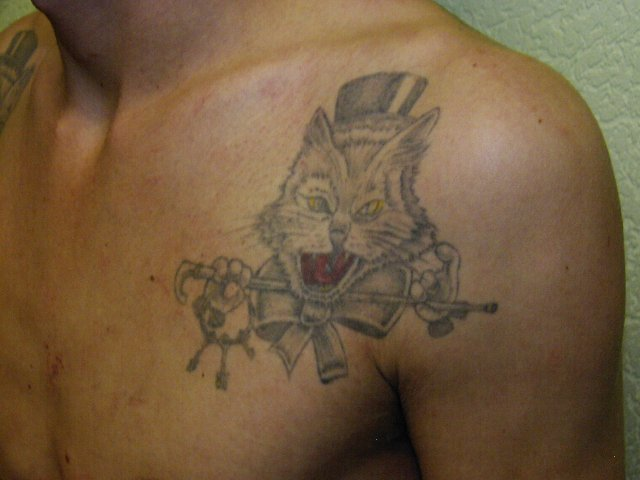tatu8_kot: (165, 64, 508, 394)
